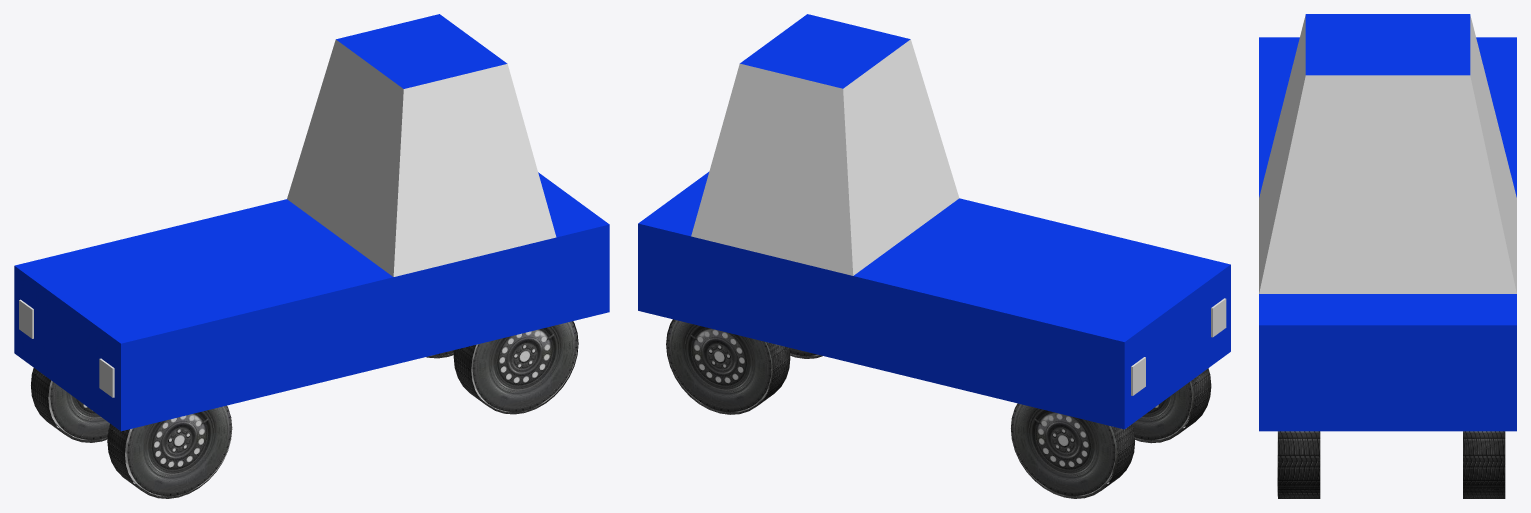
The model's file is lowpolyCar.glb.
3 views of the same model, side by side, from view 1: azimuth 30°, elevation 25°; view 2: azimuth 150°, elevation 25°; view 3: azimuth 270°, elevation 25° (orthographic). The views are drawn at different scales.
Visible parts, largest first — view 1: Body, glass, Wheels, lights; view 2: Body, glass, Wheels, lights; view 3: glass, Body, Wheels.
Part boxes in pixels (x1=…): Body: x1=14, y1=14, x2=609, y2=431; glass: x1=287, y1=39, x2=556, y2=276; Wheels: x1=31, y1=321, x2=578, y2=498; lights: x1=19, y1=299, x2=114, y2=397; Body: x1=638, y1=14, x2=1230, y2=429; glass: x1=691, y1=39, x2=959, y2=275; Wheels: x1=666, y1=319, x2=1211, y2=498; lights: x1=1131, y1=298, x2=1226, y2=395; glass: x1=1259, y1=15, x2=1516, y2=293; Body: x1=1259, y1=14, x2=1516, y2=431; Wheels: x1=1277, y1=431, x2=1505, y2=498.
Size of the model in its own units: 3.94 by 2.63 by 1.48.
7 materials, 2 textured.
